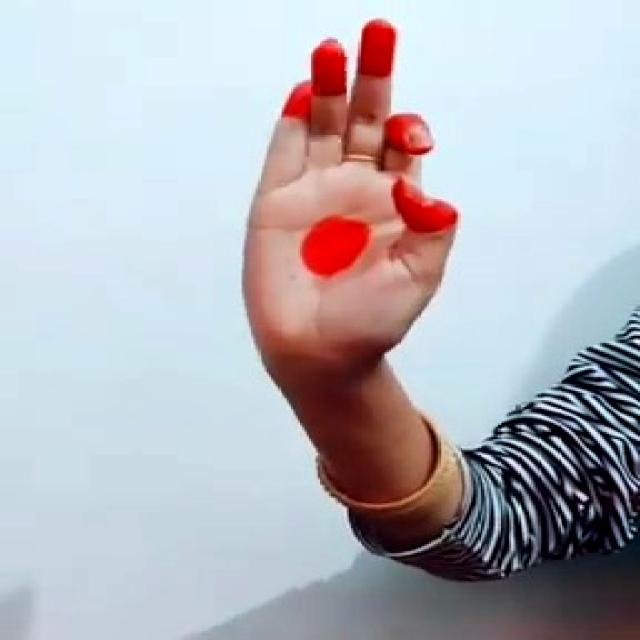Arala: (212, 0, 496, 354)
bangle: (286, 416, 473, 520)
